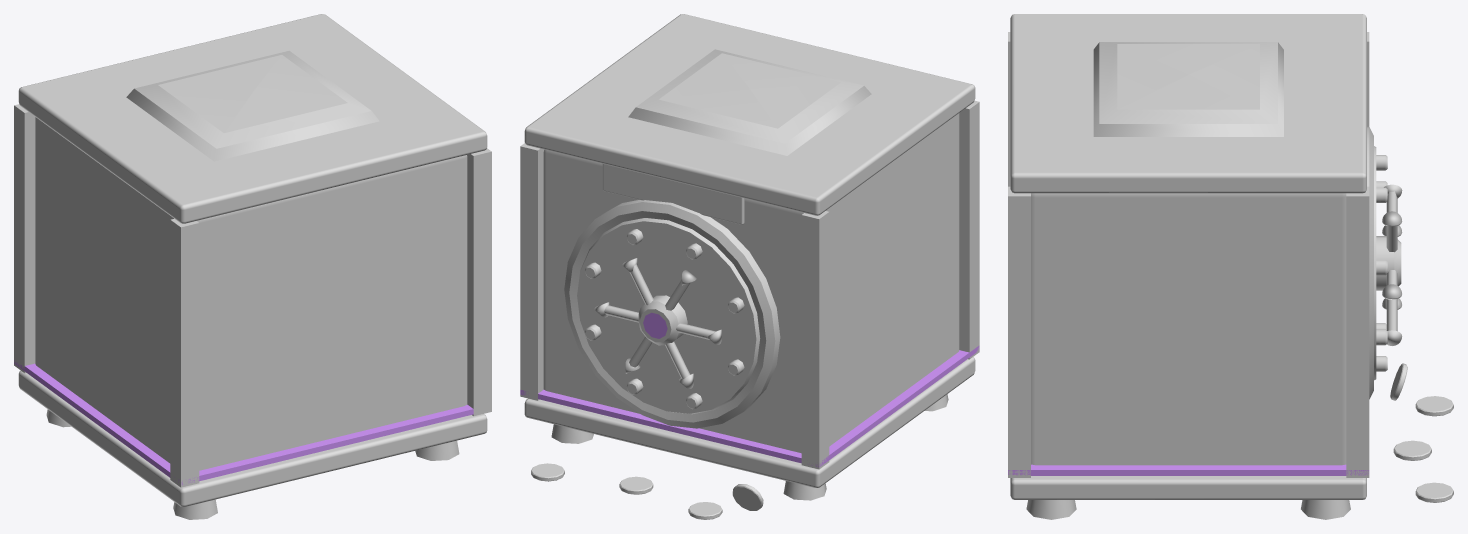
The model's file is VaultChaos.glb.
The picture shows the model from 3 angles, left to right: view 1: azimuth 30°, elevation 25°; view 2: azimuth 150°, elevation 25°; view 3: azimuth 270°, elevation 25°; orthographic projection. The views are drawn at different scales.
Visible parts, largest first — view 1: Body, Glow; view 2: Body, Glow; view 3: Body, Glow.
Boxes of the visible parts, box(x1,y1,x2,y2) form: Body: box(14, 14, 491, 519); Glow: box(14, 360, 473, 485); Body: box(520, 14, 979, 519); Glow: box(520, 312, 979, 467); Body: box(1008, 14, 1453, 519); Glow: box(1008, 464, 1369, 475).
Size of the model in its own units: 8.5 by 9.04 by 9.75.
